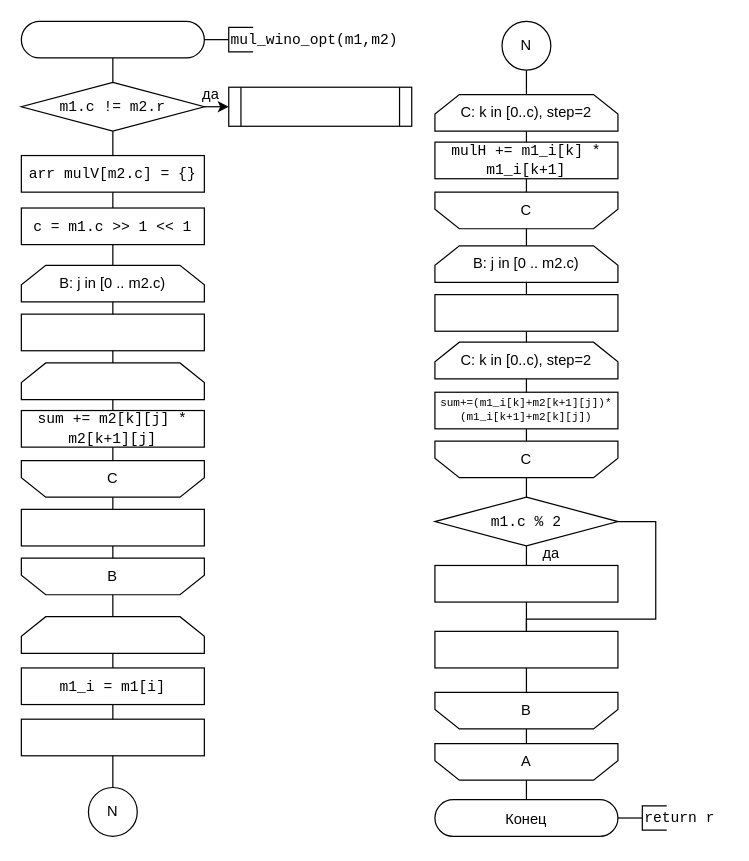
This 749x861 diagram has some shape labels left out. The shapes that lost their labels are listed below. From the top down, each one's centre as x and y in pixels, then its label:
At point 112,39: "Начало".
At point 320,106: "throw exception".
At point 112,332: "sum = 0".
At point 526,312: "sum = -mulH - mulV[j]".
At point 112,381: "C: k in [0..c), step=2".
At point 112,527: "mulV[i] = sum".
At point 526,583: "sum = m1[i][c]* m2[c][j]".
At point 112,634: "A: i in [0 .. m1.r)".
At point 526,649: "r[i][j] = sum".
At point 112,737: "mulH = 0".
